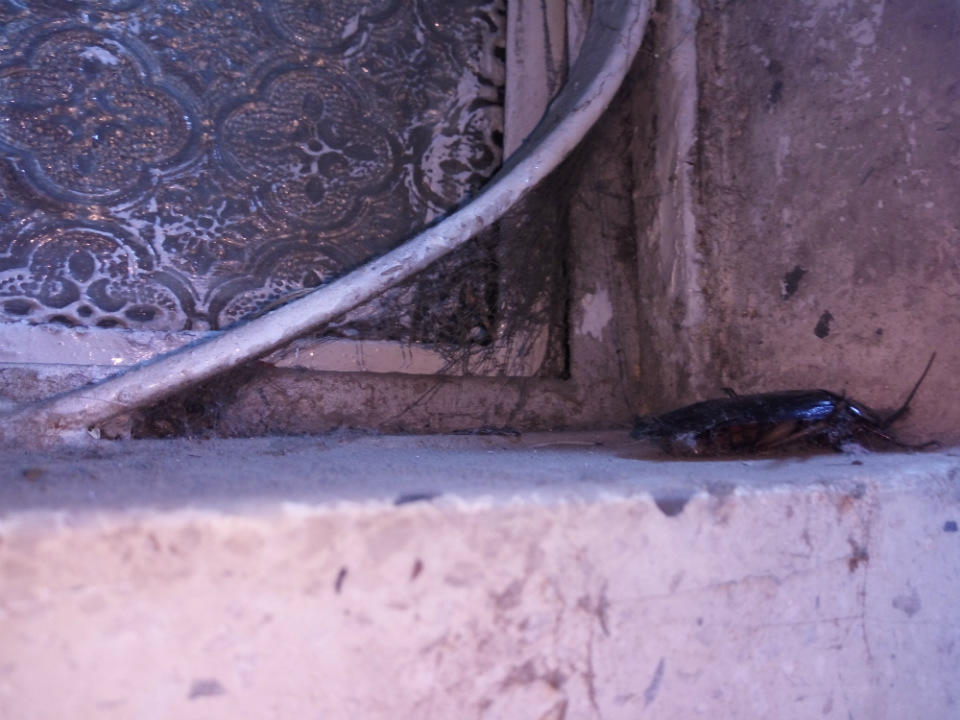cockroach: (524, 349, 957, 474)
